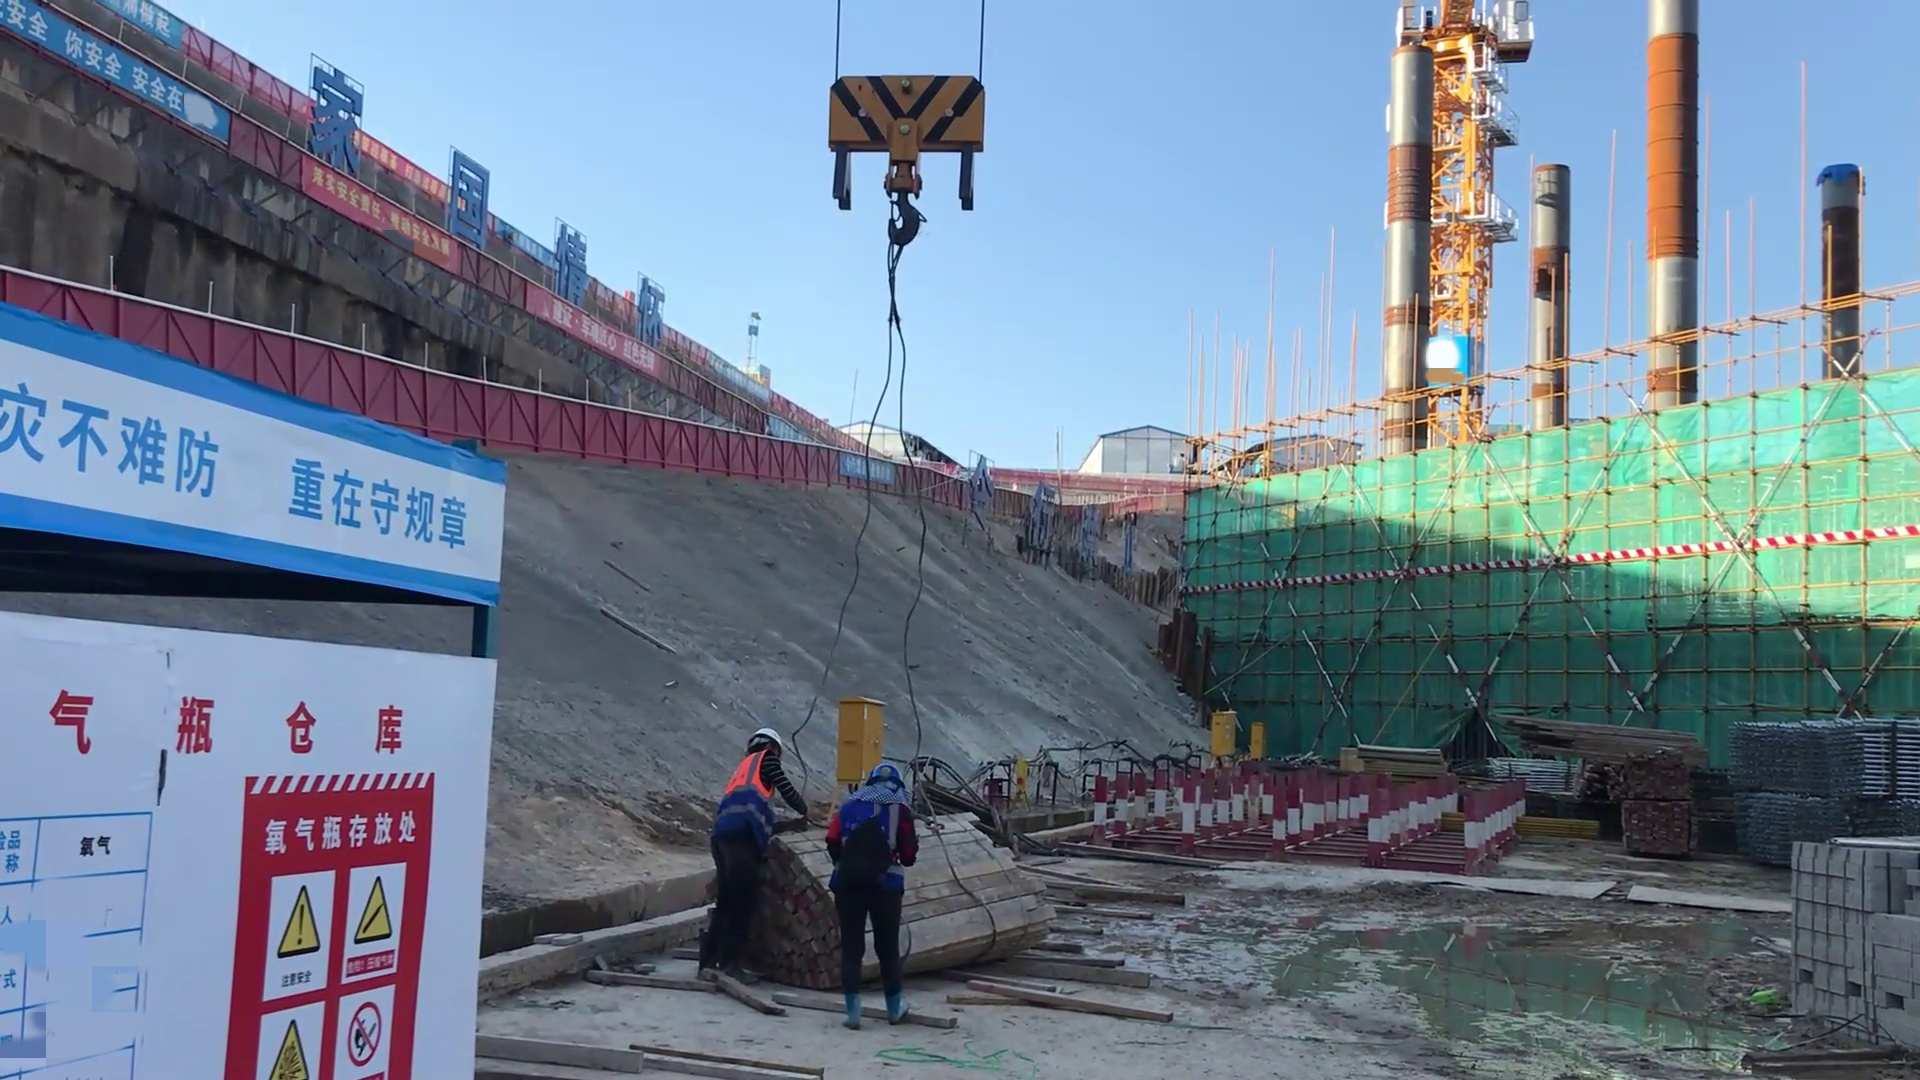brick: (1788, 829, 1920, 1028)
ebox: (836, 676, 907, 787), (1205, 709, 1232, 766), (1241, 723, 1264, 766)
fence: (488, 392, 770, 464)
helmet: (745, 724, 783, 758), (866, 766, 902, 798)
hook: (821, 70, 984, 223)
person: (827, 760, 923, 1029), (695, 722, 792, 980)
scaffold: (1733, 715, 1915, 802)
slogan: (6, 407, 466, 578), (219, 797, 448, 1080), (8, 5, 188, 124), (303, 155, 459, 266)
vest: (720, 753, 774, 819)
wood: (1478, 690, 1700, 798), (929, 819, 1063, 965)
